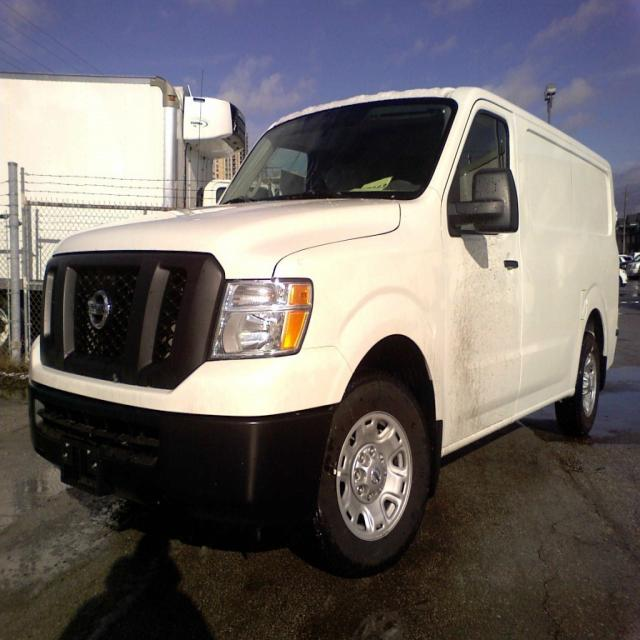microbus: (28, 70, 634, 577)
